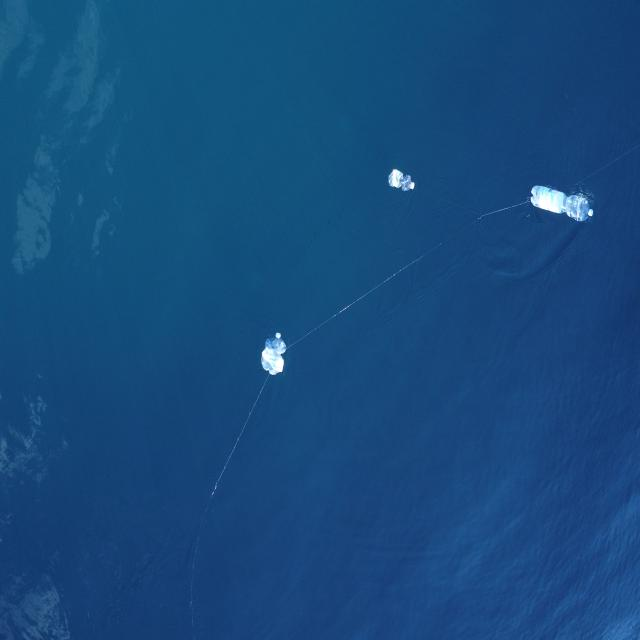bottles: (530, 185, 594, 223), (261, 332, 287, 375), (388, 168, 415, 192)
